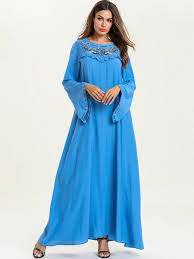middle_eastern_Female: (93, 10, 118, 40)
